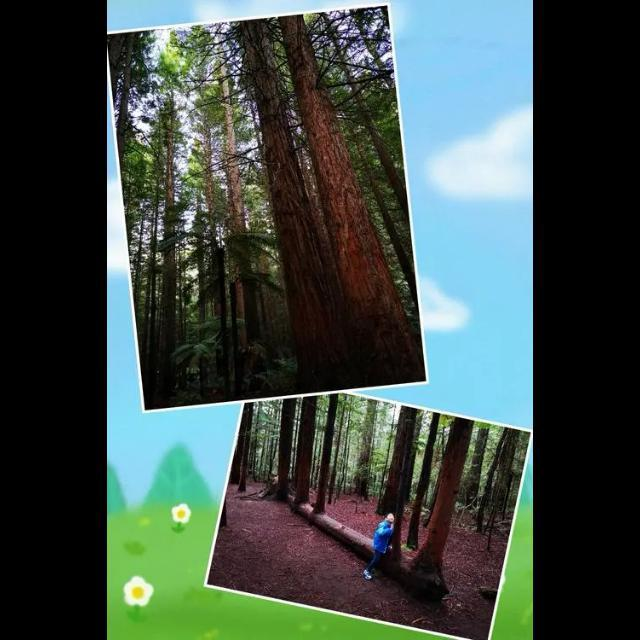fallen_tree: (262, 474, 440, 592)
